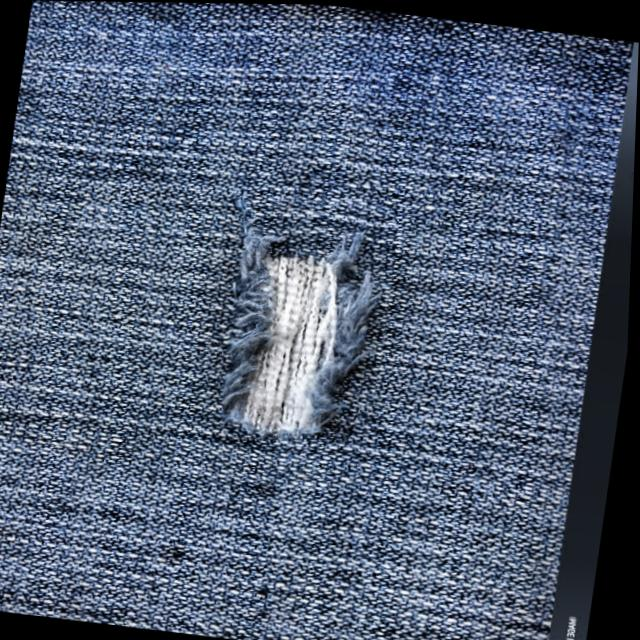Hole: (194, 187, 423, 487)
